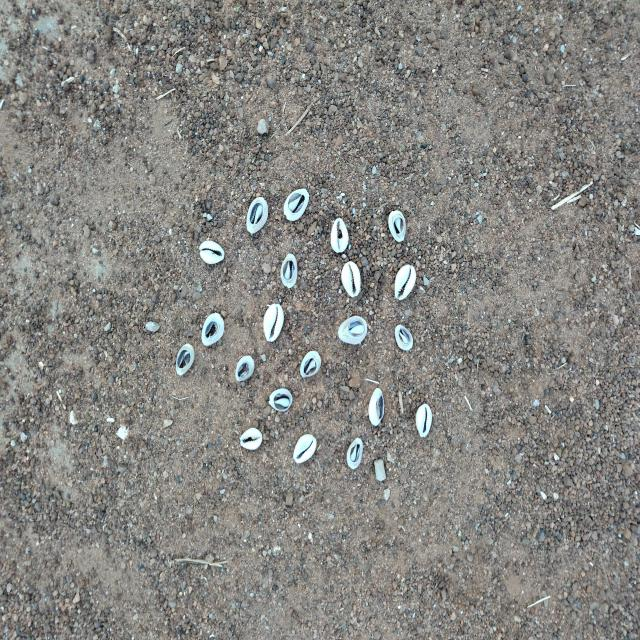facedown: (334, 310, 372, 347), (282, 184, 310, 223), (245, 194, 270, 236), (200, 309, 225, 349), (277, 251, 303, 289), (367, 384, 387, 429), (298, 348, 324, 381), (174, 341, 196, 379), (387, 209, 408, 246), (267, 388, 295, 414), (345, 435, 365, 471), (234, 354, 256, 386), (394, 321, 415, 354)
faceup: (392, 262, 418, 303), (262, 302, 285, 345), (341, 259, 363, 301), (413, 398, 434, 442), (196, 237, 226, 267), (293, 431, 318, 467), (328, 217, 350, 256), (413, 402, 435, 439), (238, 426, 265, 453)
